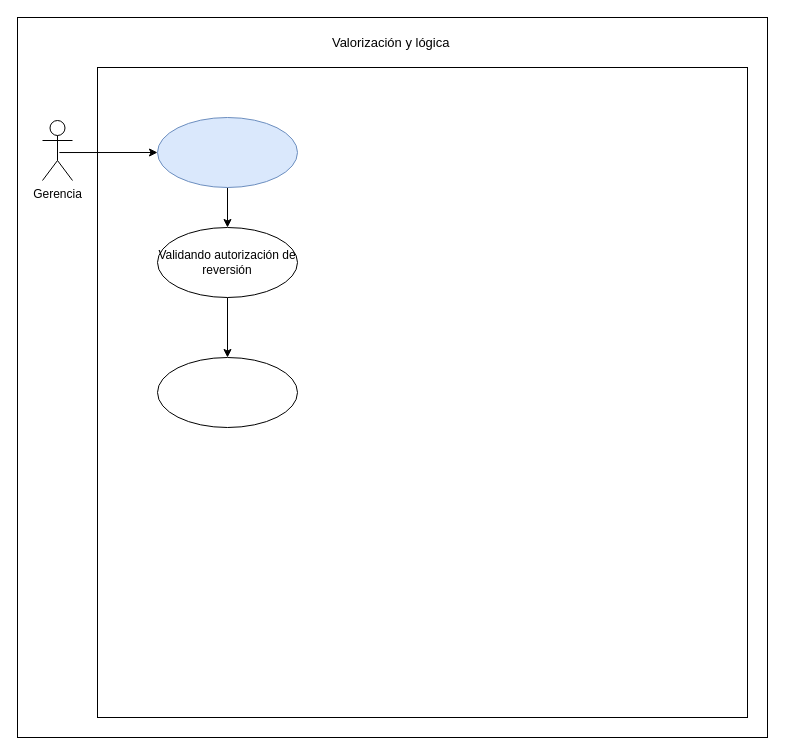
This 785x755 diagram has some shape labels left out. Each missing label, with the centre of its shape:
Aplicando método FIFO: point 227,152
Revirtiendo movimientos erróneos: point 227,392
